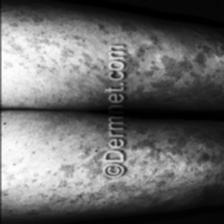Toxin: (0, 14, 103, 84), (124, 126, 224, 196), (0, 152, 101, 208), (132, 46, 224, 106)
